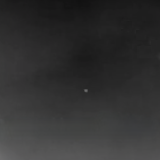Target: (84, 89, 88, 93)
